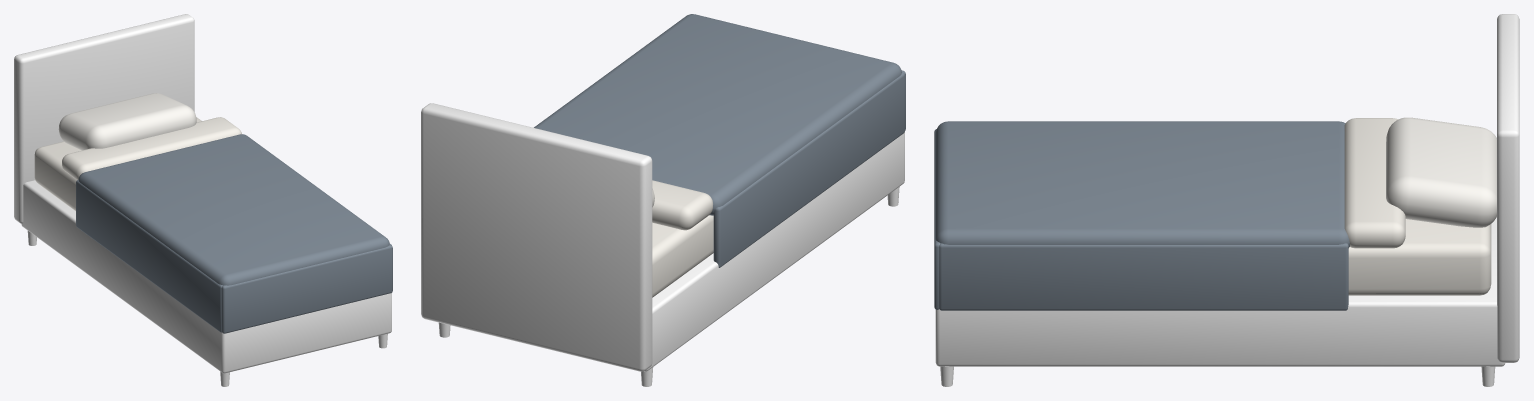
File: cama_solteiro.glb
3 renders of one model, left to right at view 1: azimuth 30°, elevation 25°; view 2: azimuth 150°, elevation 25°; view 3: azimuth 270°, elevation 25°, orthographic. The views are drawn at different scales.
Parts seen in each view (by area): view 1: p; view 2: p; view 3: p.
Part boxes in pixels (<box>): p: <box>14,14,392,386</box>; p: <box>421,14,905,386</box>; p: <box>934,14,1519,386</box>.
Bounding box in the file's own units: 1 × 1 × 2.05.
